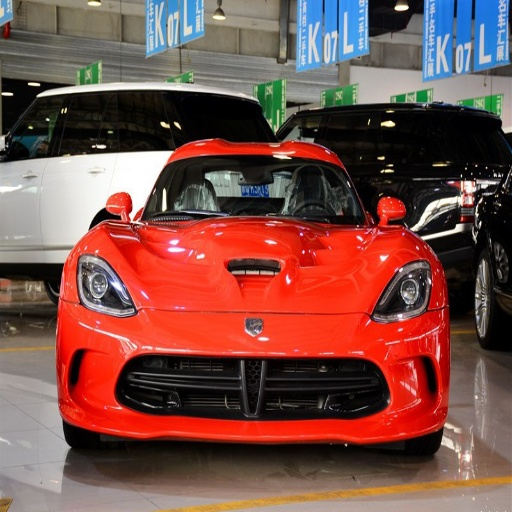back_bumper: (176, 353, 305, 424)
front_bumper: (264, 315, 447, 443), (61, 306, 223, 439)
front_glass: (295, 176, 367, 227)
front_left_door: (2, 181, 30, 236)
front_right_light: (73, 253, 133, 316)
hood: (306, 223, 418, 311), (103, 221, 173, 271)
trunk: (115, 220, 364, 353)
